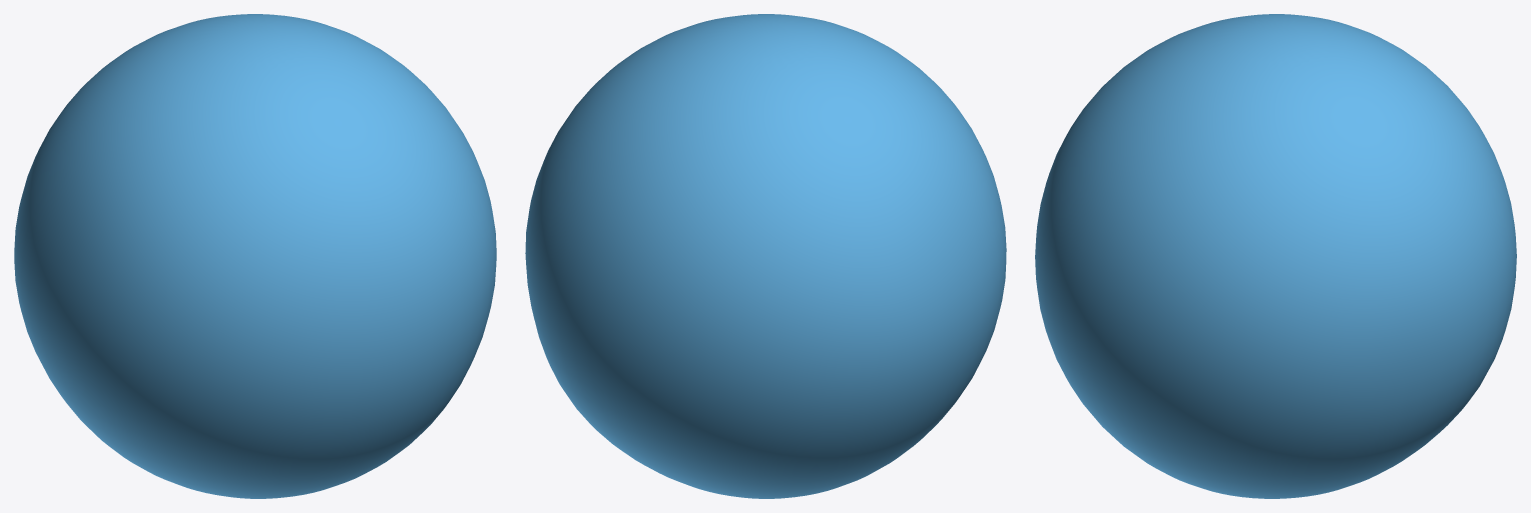
File: ball.fbx
The picture shows the model from 3 angles, left to right: view 1: azimuth 30°, elevation 25°; view 2: azimuth 150°, elevation 25°; view 3: azimuth 270°, elevation 25°; orthographic projection.
Parts seen in each view (by area): view 1: Sphere.001; view 2: Sphere.001; view 3: Sphere.001.
Boxes of the visible parts, left/top/right/bottom form: Sphere.001: left=14, top=14, right=496, bottom=498; Sphere.001: left=525, top=14, right=1006, bottom=498; Sphere.001: left=1035, top=14, right=1516, bottom=498.
Size of the model in its own units: 1950 by 1989 by 1965.
